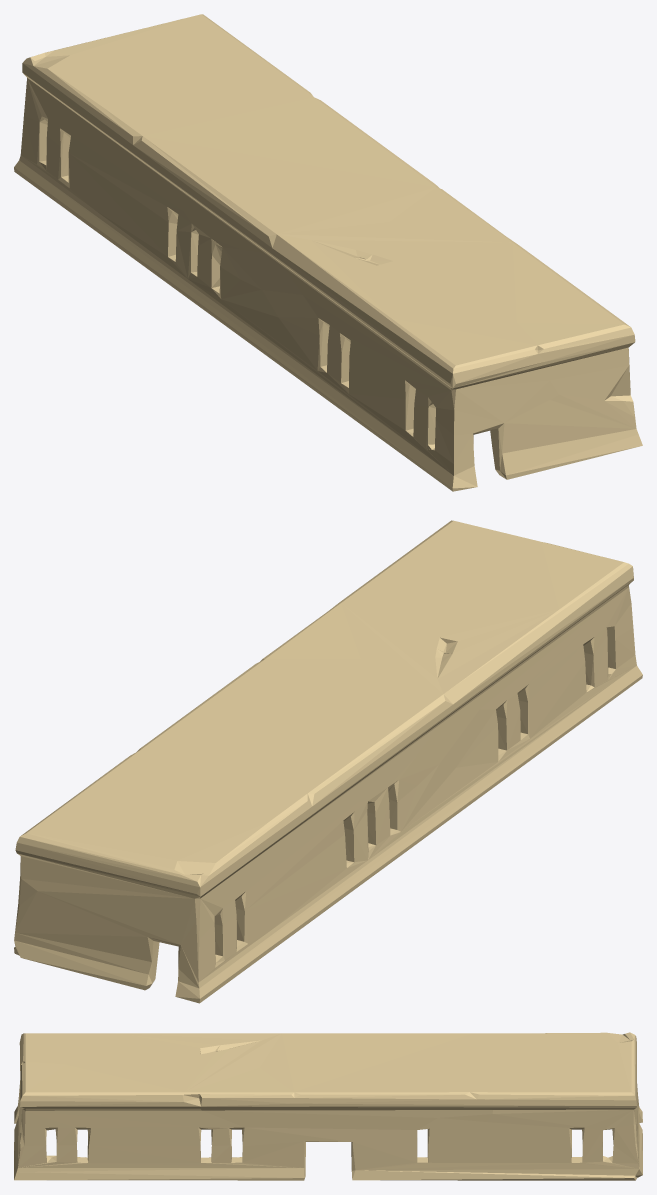
The picture shows the model from 3 angles, top to bottom: view 1: azimuth 30°, elevation 25°; view 2: azimuth 150°, elevation 25°; view 3: azimuth 270°, elevation 25°; orthographic projection. The views are drawn at different scales.
Parts seen in each view (by area): view 1: longbuilding_01; view 2: longbuilding_01; view 3: longbuilding_01.
Boxes of the visible parts, box(x1,y1,x2,y2) form: longbuilding_01: box(14, 14, 642, 491); longbuilding_01: box(14, 520, 642, 1003); longbuilding_01: box(14, 1032, 642, 1180).
Bounding box in the file's own units: 1000 × 600 × 4000.
